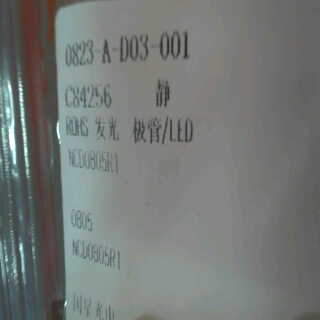LED: (91, 113, 197, 147)
